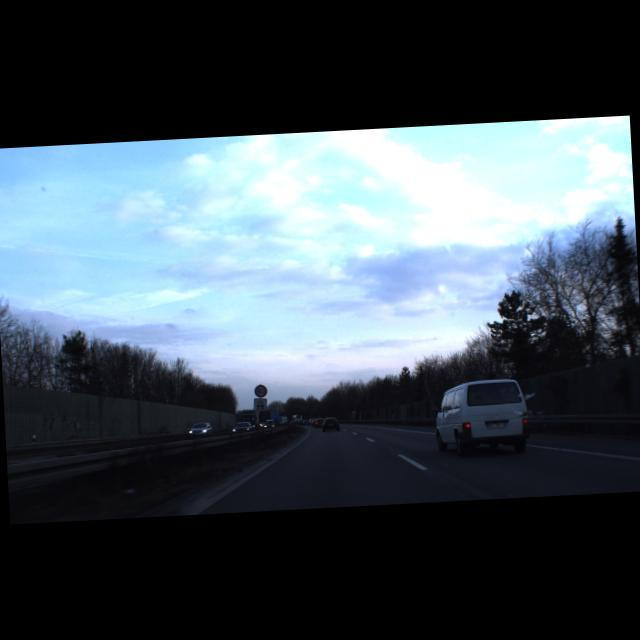prohibitory: (254, 384, 268, 398)
